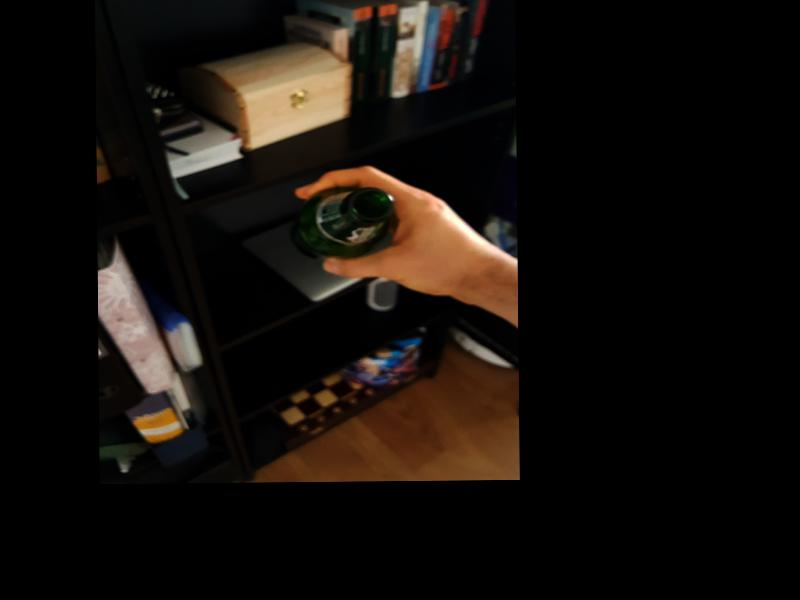Beer: (290, 188, 395, 263)
